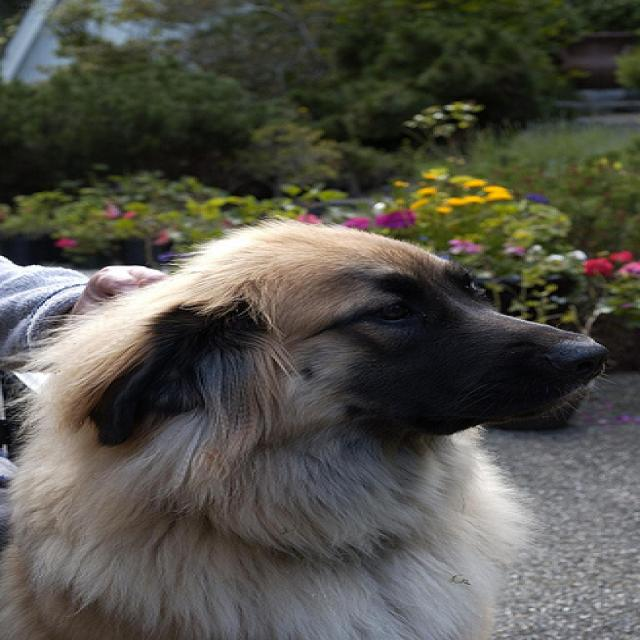dog-leonberger: (2, 207, 620, 637)
